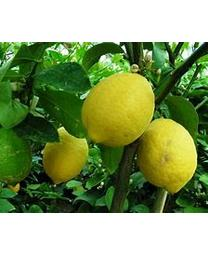lemon: (81, 72, 154, 146), (138, 119, 196, 192), (42, 126, 89, 185)
